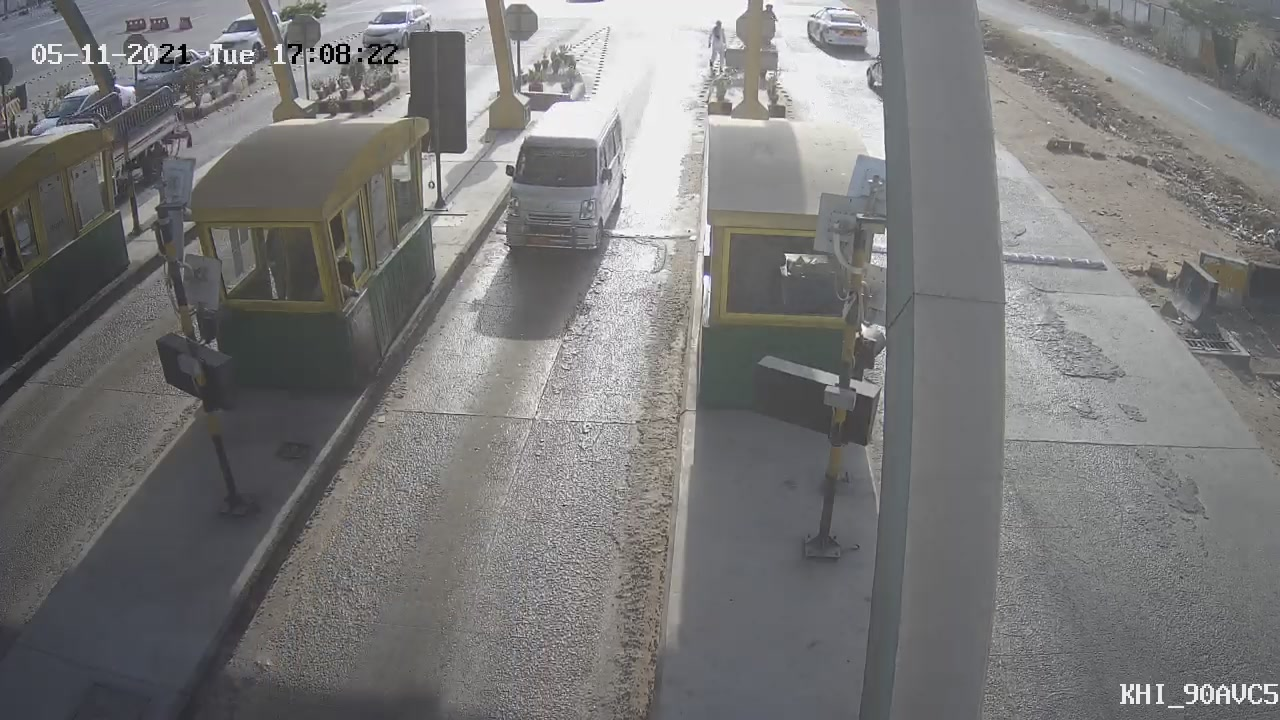F1: (482, 85, 644, 278)
